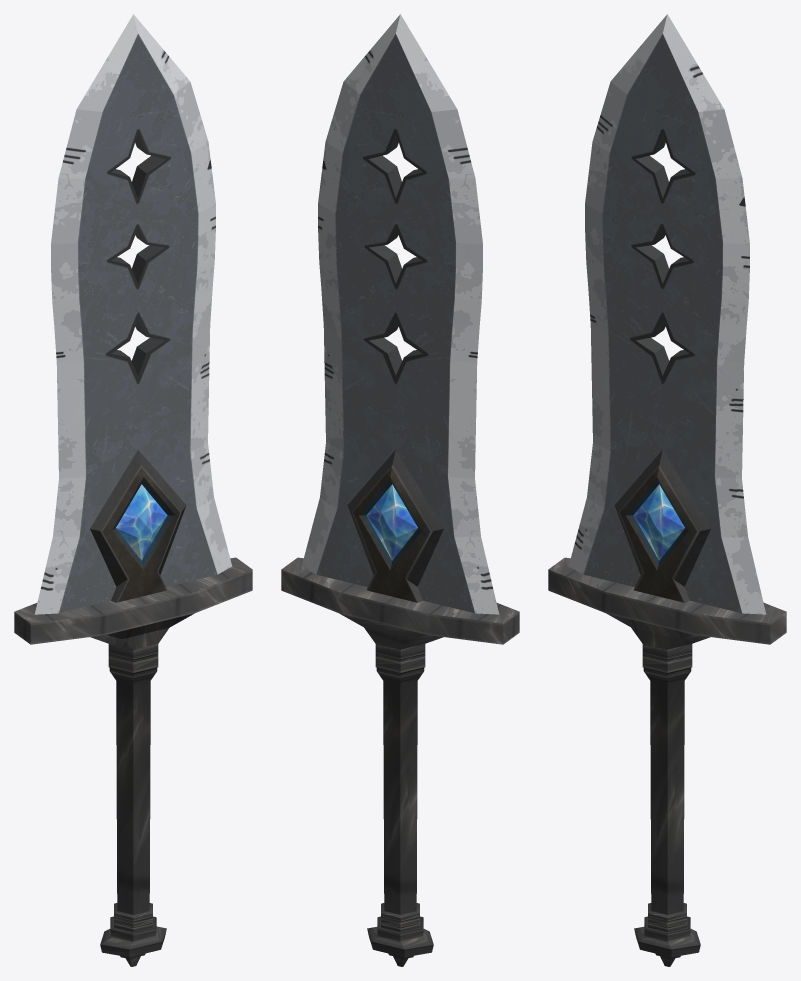
The model's file is Sword_object_middle.fbx.
3 renders of one model, left to right at view 1: azimuth 30°, elevation 25°; view 2: azimuth 150°, elevation 25°; view 3: azimuth 330°, elevation 25°, orthographic.
Parts seen in each view (by area): view 1: Sword; view 2: Sword; view 3: Sword.
Boxes of the visible parts, left/top/right/bottom form: Sword: left=14, top=14, right=252, bottom=966; Sword: left=281, top=14, right=519, bottom=966; Sword: left=548, top=14, right=786, bottom=966.
Size of the model in its own units: 0.6072 by 2.49 by 0.1608.
